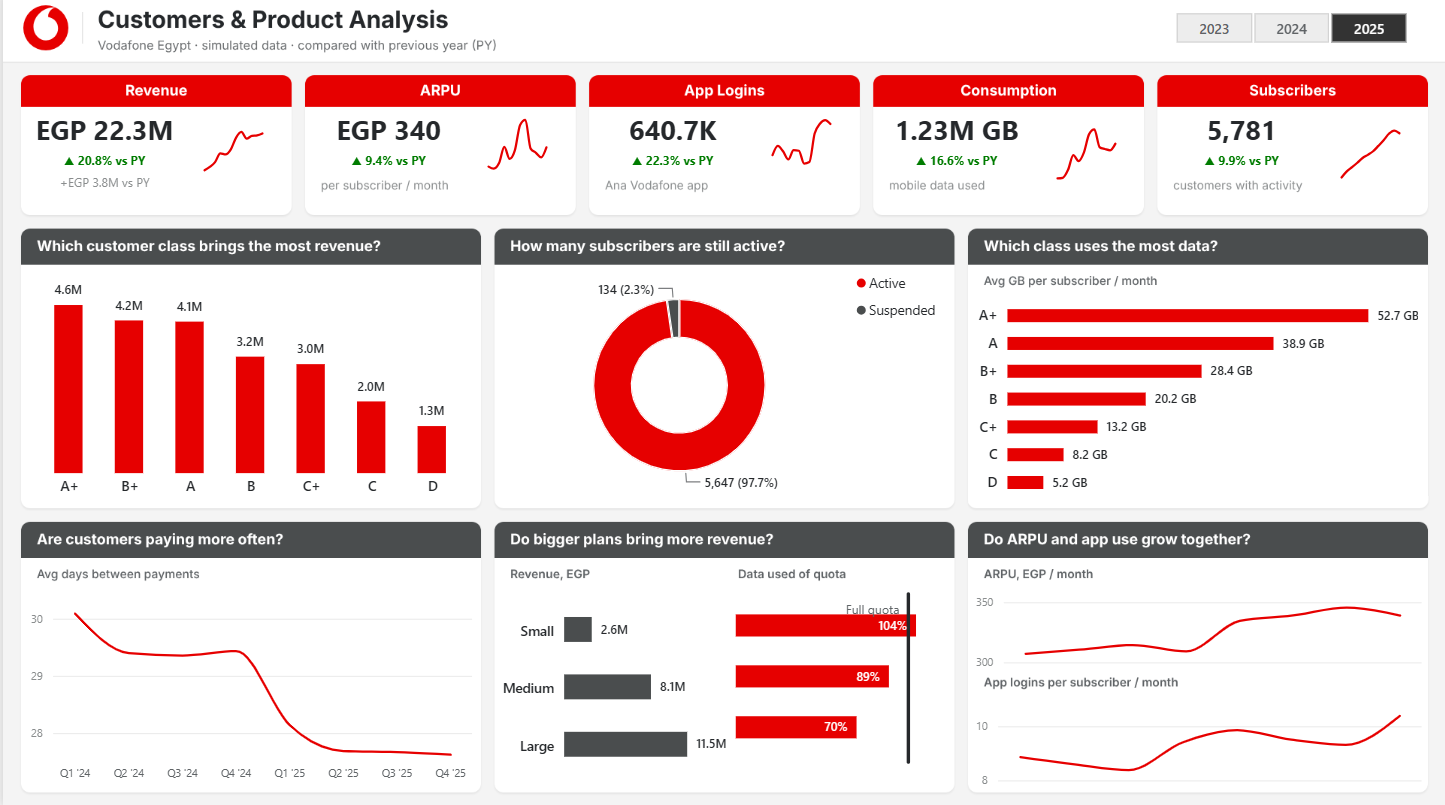

What the dashboard file says about the page in this screenshot:
{"tool":"powerbi","page":{"name":"Customers & Product Analysis","canvas":[1280,720],"ordinal":0},"visuals":[{"type":"slicer","fields":{"Values":["Years.Year"]},"box":[1020,15,244,30],"z":1000},{"type":"card","fields":{"Values":["_Measures.Revenue CY Label"]},"box":[22,104,136,36],"z":2000},{"type":"card","fields":{"Values":["_Measures.Revenue vs PY Label"]},"box":[22,140,136,20],"z":3000},{"type":"card","fields":{"Values":["_Measures.Revenue vs PY Diff Label"]},"box":[22,160,136,20],"z":4000},{"type":"lineChart","fields":{"Category":["Dim_Date.MonthNumber"],"Y":["_Measures.Revenue CY"]},"box":[164,100,90,66],"z":5000},{"type":"card","fields":{"Values":["_Measures.ARPU CY Label"]},"box":[274,104,136,36],"z":6000},{"type":"card","fields":{"Values":["_Measures.ARPU vs PY Label"]},"box":[274,140,136,20],"z":7000},{"type":"lineChart","fields":{"Category":["Dim_Date.MonthNumber"],"Y":["_Measures.ARPU CY"]},"box":[416,100,90,66],"z":8000},{"type":"card","fields":{"Values":["_Measures.App Logins CY Label"]},"box":[526,104,136,36],"z":9000},{"type":"card","fields":{"Values":["_Measures.App Logins vs PY Label"]},"box":[526,140,136,20],"z":10000},{"type":"lineChart","fields":{"Category":["Dim_Date.MonthNumber"],"Y":["_Measures.App Logins CY"]},"box":[668,100,90,66],"z":11000},{"type":"card","fields":{"Values":["_Measures.Data Used GB CY Label"]},"box":[778,104,136,36],"z":12000},{"type":"card","fields":{"Values":["_Measures.Data Used GB vs PY Label"]},"box":[778,140,136,20],"z":13000},{"type":"lineChart","fields":{"Category":["Dim_Date.MonthNumber"],"Y":["_Measures.Data Used GB CY"]},"box":[920,100,90,66],"z":14000},{"type":"card","fields":{"Values":["_Measures.Subscribers CY Label"]},"box":[1030,104,136,36],"z":15000},{"type":"card","fields":{"Values":["_Measures.Subscribers vs PY Label"]},"box":[1030,140,136,20],"z":16000},{"type":"lineChart","fields":{"Category":["Dim_Date.MonthNumber"],"Y":["_Measures.Subscribers CY"]},"box":[1172,100,90,66],"z":17000},{"type":"clusteredColumnChart","fields":{"Category":["Dim_Customer.CustomerClass"],"Y":["_Measures.Revenue CY"]},"box":[24,244,392,206],"z":18000},{"type":"donutChart","fields":{"Category":["Dim_Customer.Status"],"Y":["_Measures.Subscribers CY"]},"box":[444,244,392,206],"z":19000},{"type":"clusteredBarChart","fields":{"Category":["Dim_Customer.CustomerClass"],"Y":["_Measures.Avg GB per Subscriber CY"]},"box":[864,262,392,188],"z":20000},{"type":"lineChart","fields":{"Category":["Dim_Date.Quarter Label"],"Y":["_Measures.Avg Days Between Payments 2Y"]},"box":[24,520,392,182],"z":21000},{"type":"clusteredBarChart","fields":{"Category":["Dim_Plan.Quota Size"],"Y":["_Measures.Revenue CY"]},"box":[442,524,200,176],"z":22000},{"type":"clusteredBarChart","fields":{"Category":["Dim_Plan.Quota Size"],"Y":["_Measures.Quota Utilization CY"]},"box":[644,524,192,176],"z":23000},{"type":"lineChart","fields":{"Category":["Dim_Date.Quarter Label"],"Y":["_Measures.ARPU 2Y"]},"box":[862,520,396,80],"z":24000},{"type":"lineChart","fields":{"Category":["Dim_Date.Quarter Label"],"Y":["_Measures.Logins per Subscriber 2Y"]},"box":[862,616,396,88],"z":25000}]}

Visuals, with their boxes in screenshot pixels (x1, y1, x2, y2), scaled from the page's 1280x720 canvas onto the 1445x805 screenshot:
slicer - Years.Year: l=1151, t=17, r=1427, b=50
card - _Measures.Revenue CY Label: l=25, t=116, r=178, b=157
card - _Measures.Revenue vs PY Label: l=25, t=157, r=178, b=179
card - _Measures.Revenue vs PY Diff Label: l=25, t=179, r=178, b=201
lineChart - Dim_Date.MonthNumber x _Measures.Revenue CY: l=185, t=112, r=287, b=186
card - _Measures.ARPU CY Label: l=309, t=116, r=463, b=157
card - _Measures.ARPU vs PY Label: l=309, t=157, r=463, b=179
lineChart - Dim_Date.MonthNumber x _Measures.ARPU CY: l=470, t=112, r=571, b=186
card - _Measures.App Logins CY Label: l=594, t=116, r=747, b=157
card - _Measures.App Logins vs PY Label: l=594, t=157, r=747, b=179
lineChart - Dim_Date.MonthNumber x _Measures.App Logins CY: l=754, t=112, r=856, b=186
card - _Measures.Data Used GB CY Label: l=878, t=116, r=1032, b=157
card - _Measures.Data Used GB vs PY Label: l=878, t=157, r=1032, b=179
lineChart - Dim_Date.MonthNumber x _Measures.Data Used GB CY: l=1039, t=112, r=1140, b=186
card - _Measures.Subscribers CY Label: l=1163, t=116, r=1316, b=157
card - _Measures.Subscribers vs PY Label: l=1163, t=157, r=1316, b=179
lineChart - Dim_Date.MonthNumber x _Measures.Subscribers CY: l=1323, t=112, r=1425, b=186
clusteredColumnChart - Dim_Customer.CustomerClass x _Measures.Revenue CY: l=27, t=273, r=470, b=503
donutChart - Dim_Customer.Status x _Measures.Subscribers CY: l=501, t=273, r=944, b=503
clusteredBarChart - Dim_Customer.CustomerClass x _Measures.Avg GB per Subscriber CY: l=975, t=293, r=1418, b=503
lineChart - Dim_Date.Quarter Label x _Measures.Avg Days Between Payments 2Y: l=27, t=581, r=470, b=785
clusteredBarChart - Dim_Plan.Quota Size x _Measures.Revenue CY: l=499, t=586, r=725, b=783
clusteredBarChart - Dim_Plan.Quota Size x _Measures.Quota Utilization CY: l=727, t=586, r=944, b=783
lineChart - Dim_Date.Quarter Label x _Measures.ARPU 2Y: l=973, t=581, r=1420, b=671
lineChart - Dim_Date.Quarter Label x _Measures.Logins per Subscriber 2Y: l=973, t=689, r=1420, b=787
